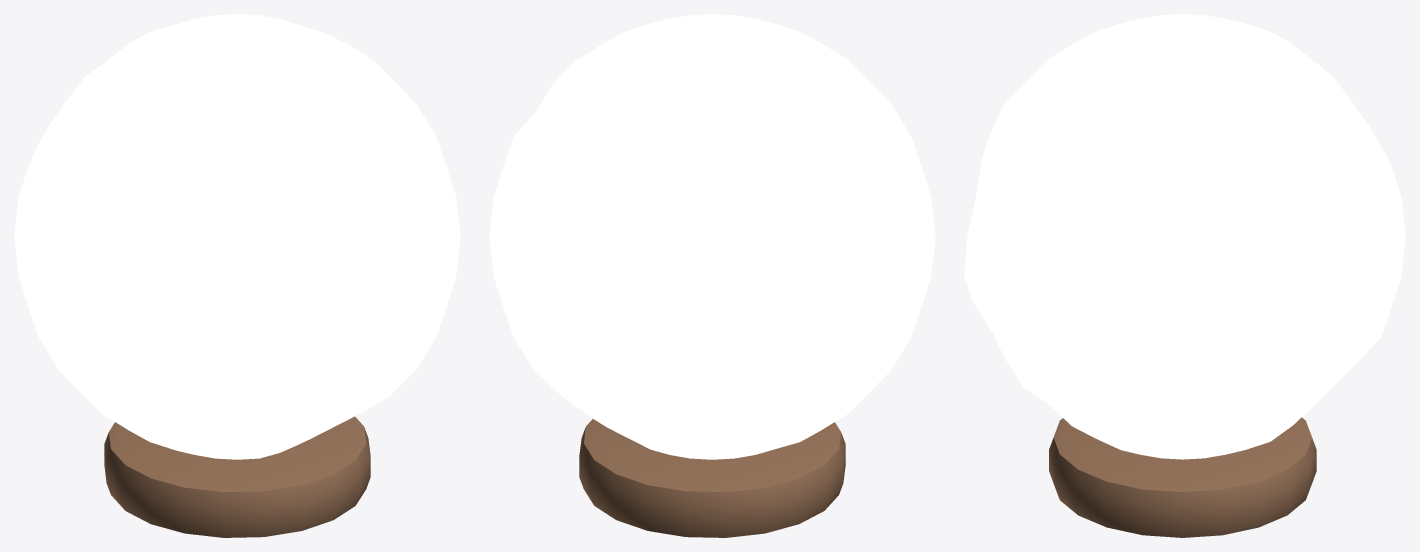
The model's file is moon_lamp.fbx.
The picture shows the model from 3 angles, left to right: view 1: azimuth 30°, elevation 25°; view 2: azimuth 150°, elevation 25°; view 3: azimuth 270°, elevation 25°; orthographic projection.
Parts seen in each view (by area): view 1: moon_lamp; view 2: moon_lamp; view 3: moon_lamp.
Part boxes in pixels (x1,y1,x2,y2): moon_lamp: [14, 14, 460, 537]; moon_lamp: [489, 14, 935, 537]; moon_lamp: [964, 14, 1405, 537].
Bounding box in the file's own units: 0.15 × 0.167 × 0.1486.
